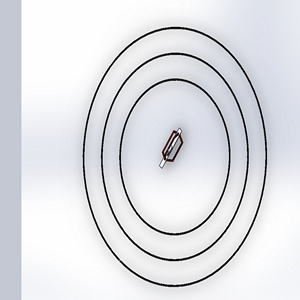circle: (74, 19, 276, 289)
submarine: (154, 126, 197, 179)
